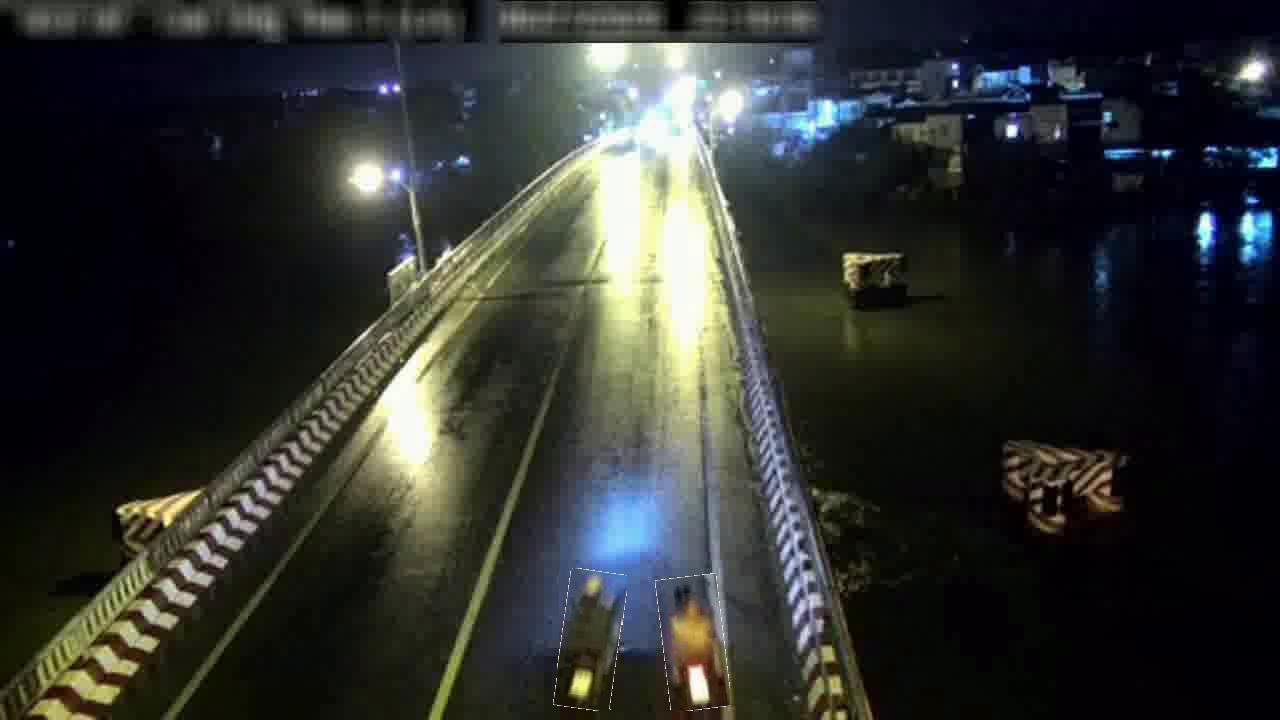motorbike: (659, 575, 728, 711), (558, 570, 624, 711)
